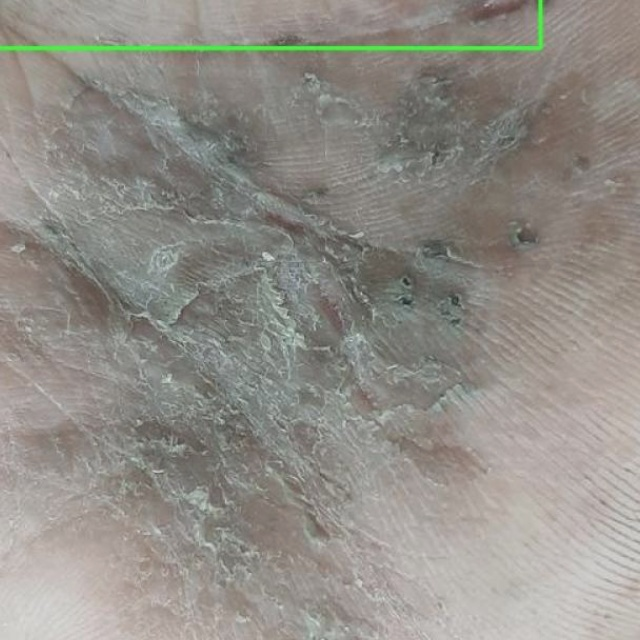Eczema: (0, 0, 540, 48)
